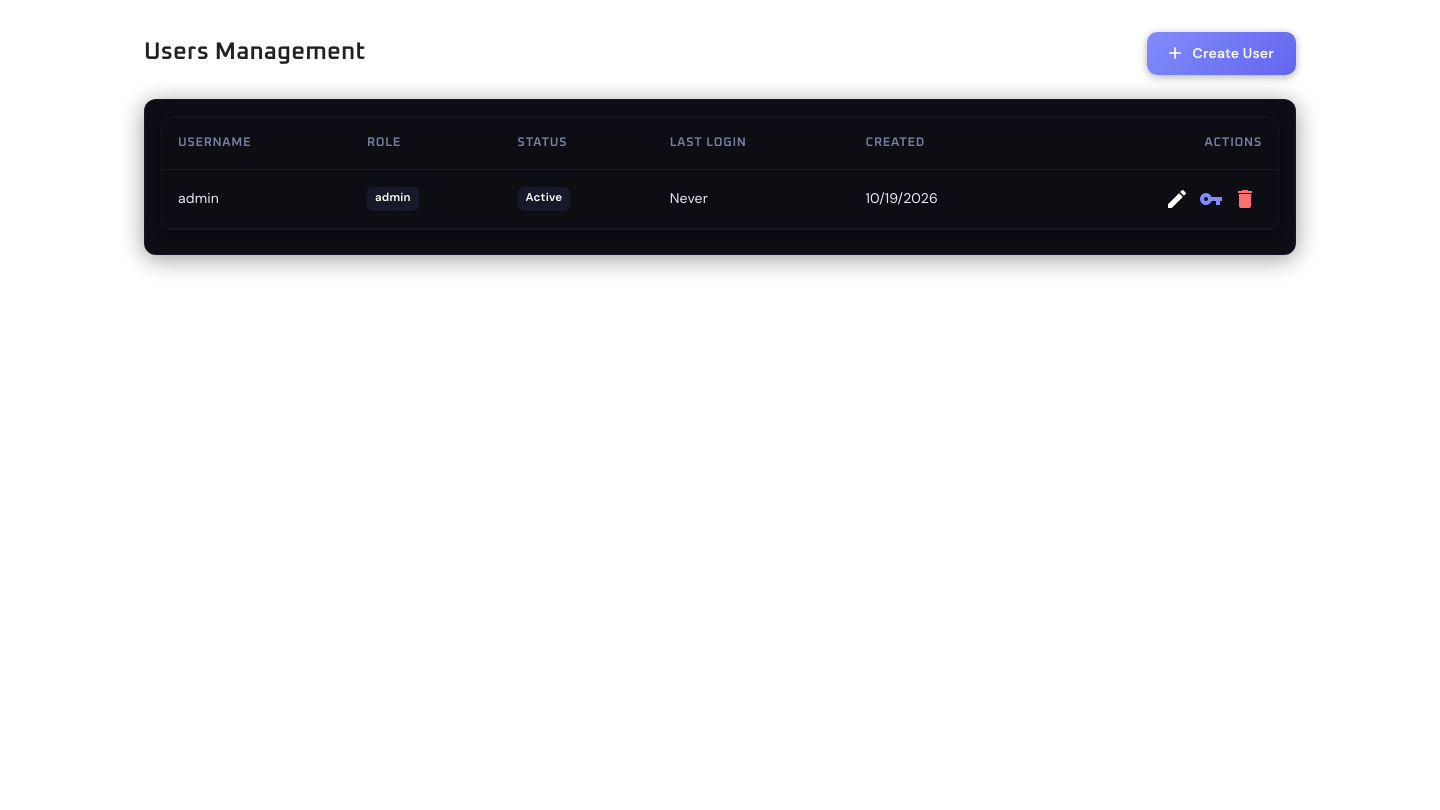
Test: Users page › opens reset password dialog when key icon clicked
Click the button named "Reset Password".
click(1211, 198)  # box left=1194, top=182, right=1228, bottom=216
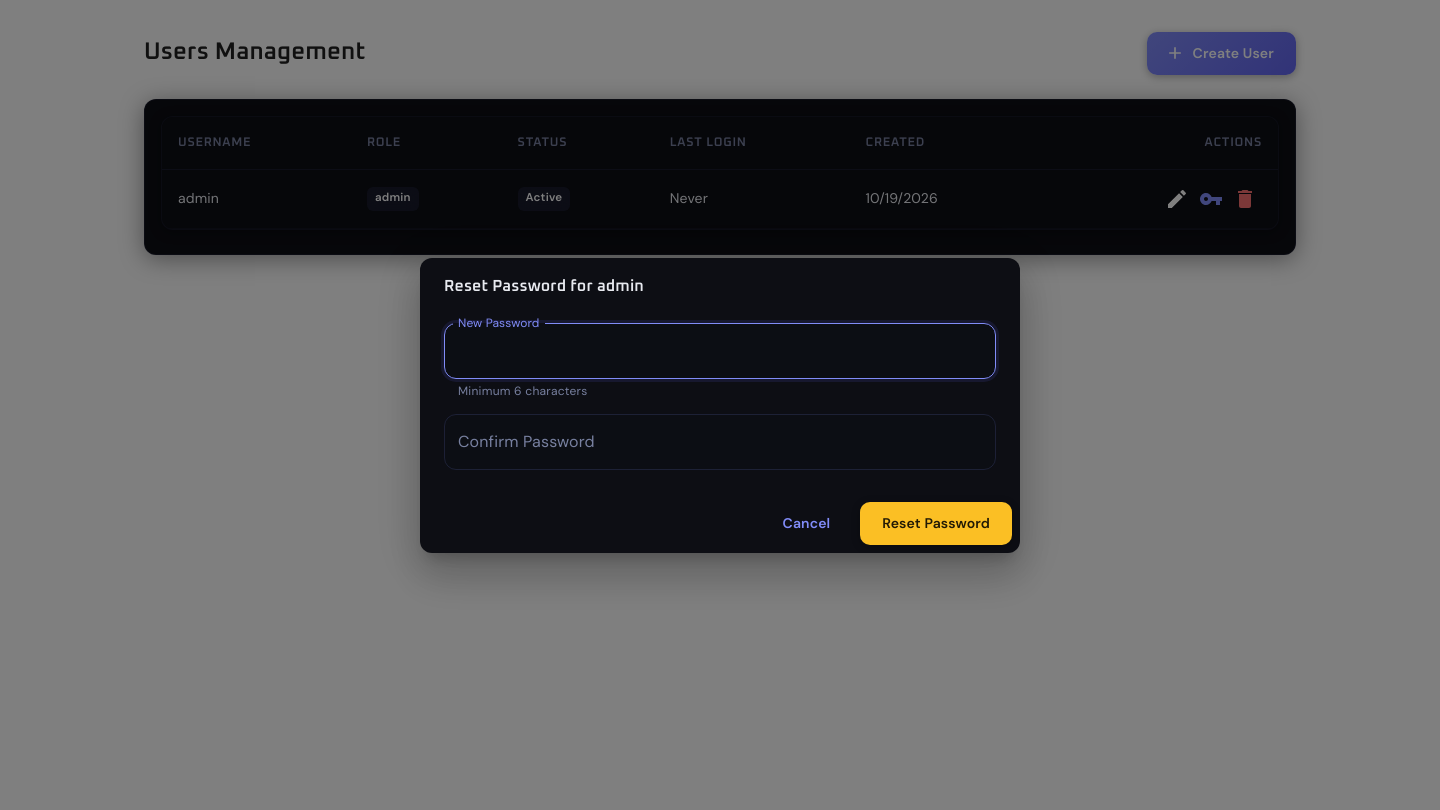
Check: the heading "Reset Password for admin" is shown, box left=444, top=278, right=644, bottom=294
